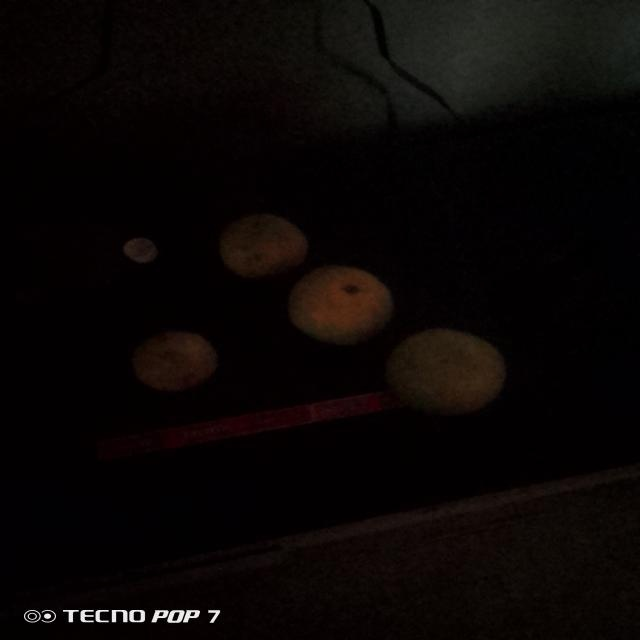agrume: (384, 329, 510, 414), (290, 255, 413, 337), (220, 214, 296, 276)
